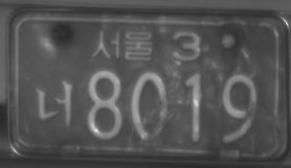0: (129, 70, 169, 140)
1: (178, 72, 213, 144)
3: (170, 29, 201, 62)
8: (85, 69, 123, 141)
9: (220, 73, 258, 144)
너: (35, 79, 73, 127)
서울_O: (90, 29, 154, 61)
